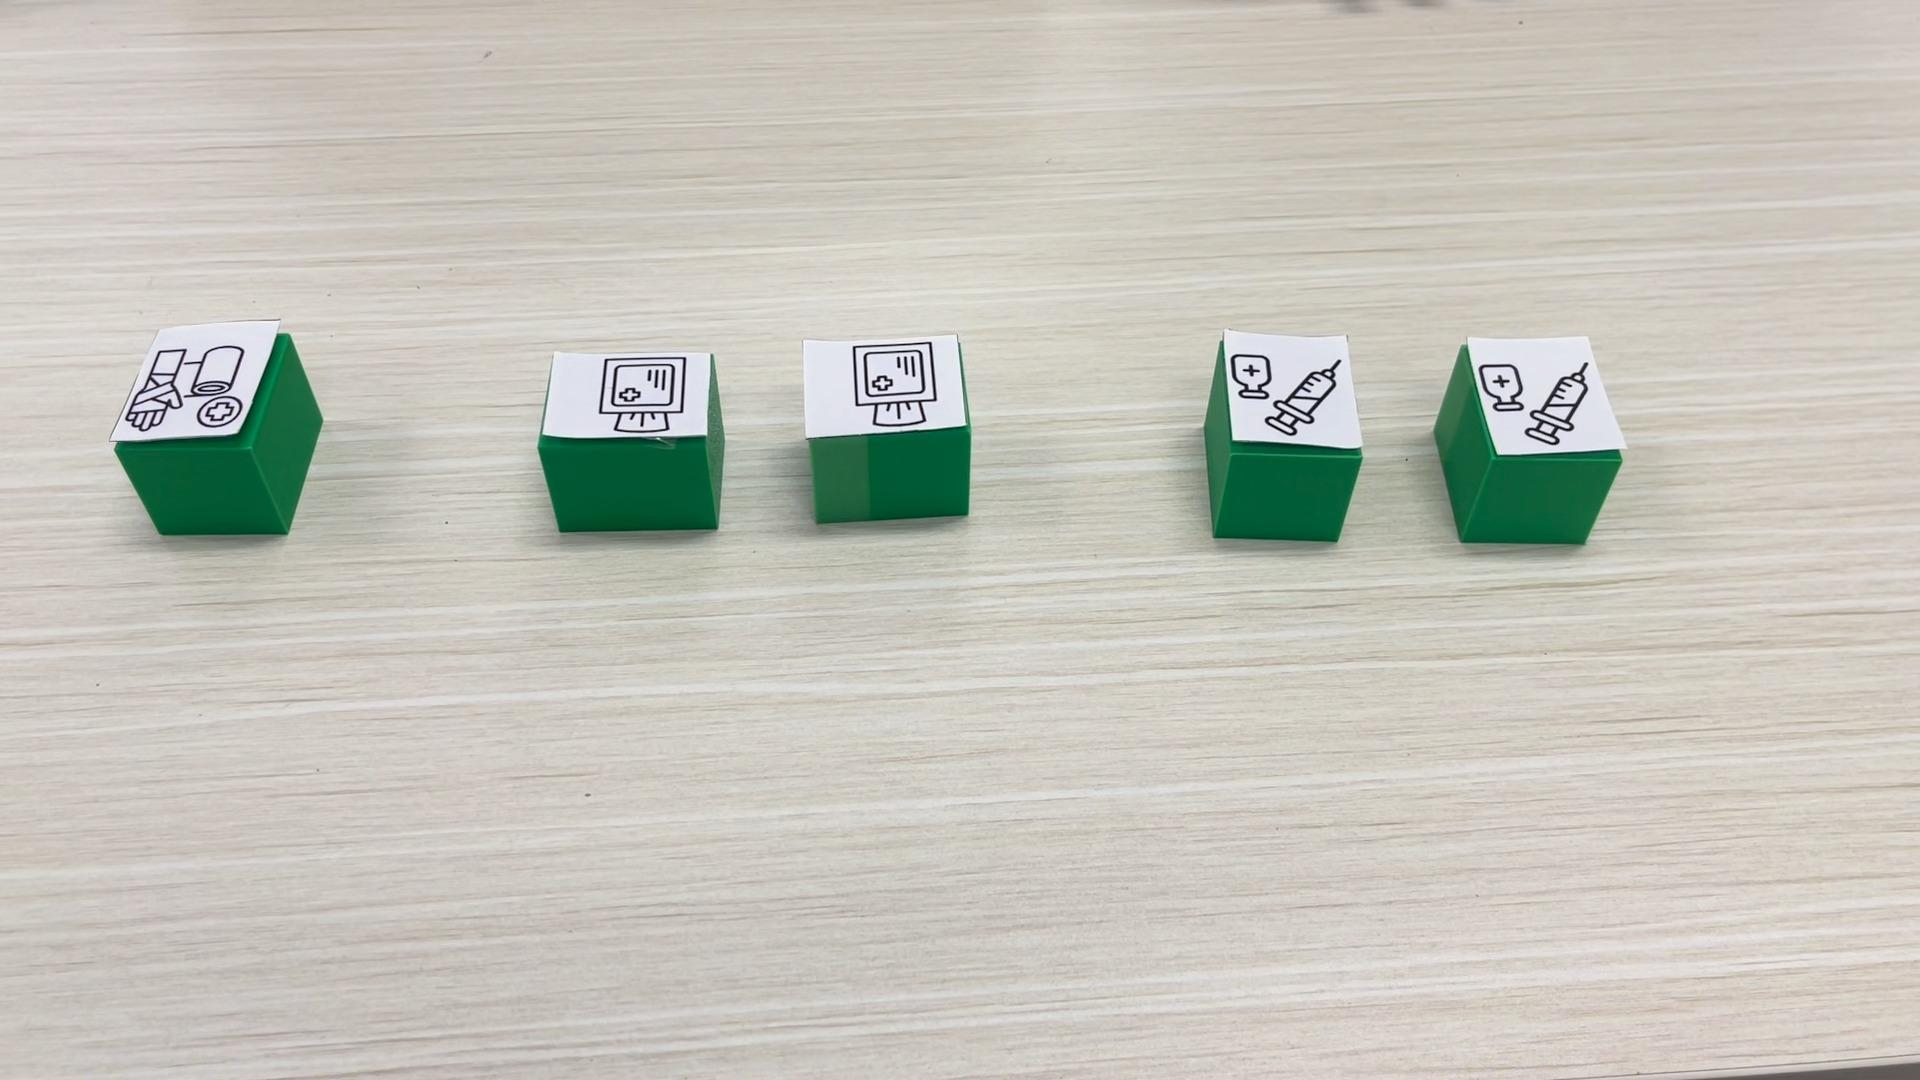Bandages: (109, 320, 320, 535)
Gauze: (539, 349, 723, 531), (800, 332, 972, 524)
antiseptic cream: (1433, 334, 1629, 545), (1201, 328, 1365, 542)
